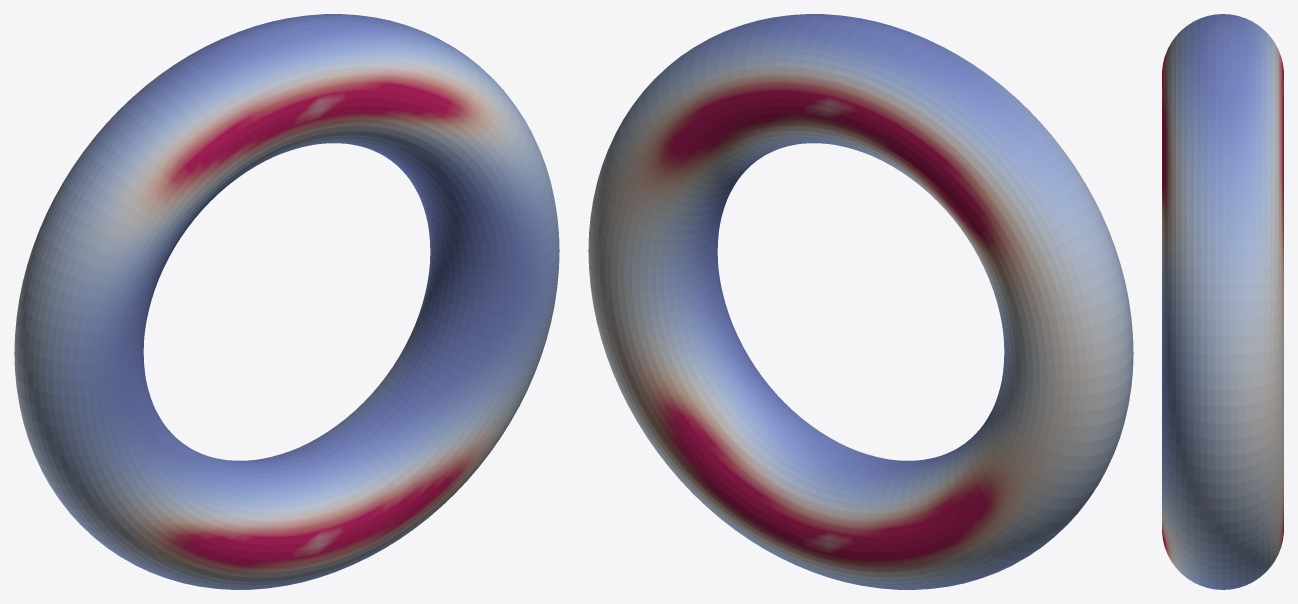
The picture shows the model from 3 angles, left to right: view 1: azimuth 30°, elevation 25°; view 2: azimuth 150°, elevation 25°; view 3: azimuth 270°, elevation 25°; orthographic projection. The views are drawn at different scales.
Visible parts, largest first — view 1: world; view 2: world; view 3: world.
Part boxes in pixels (box(x1,y1,x2,y2)): world: box(14, 14, 559, 589); world: box(588, 14, 1133, 589); world: box(1162, 14, 1283, 589).
Bounding box in the file's own units: 22 × 22 × 4.66.
